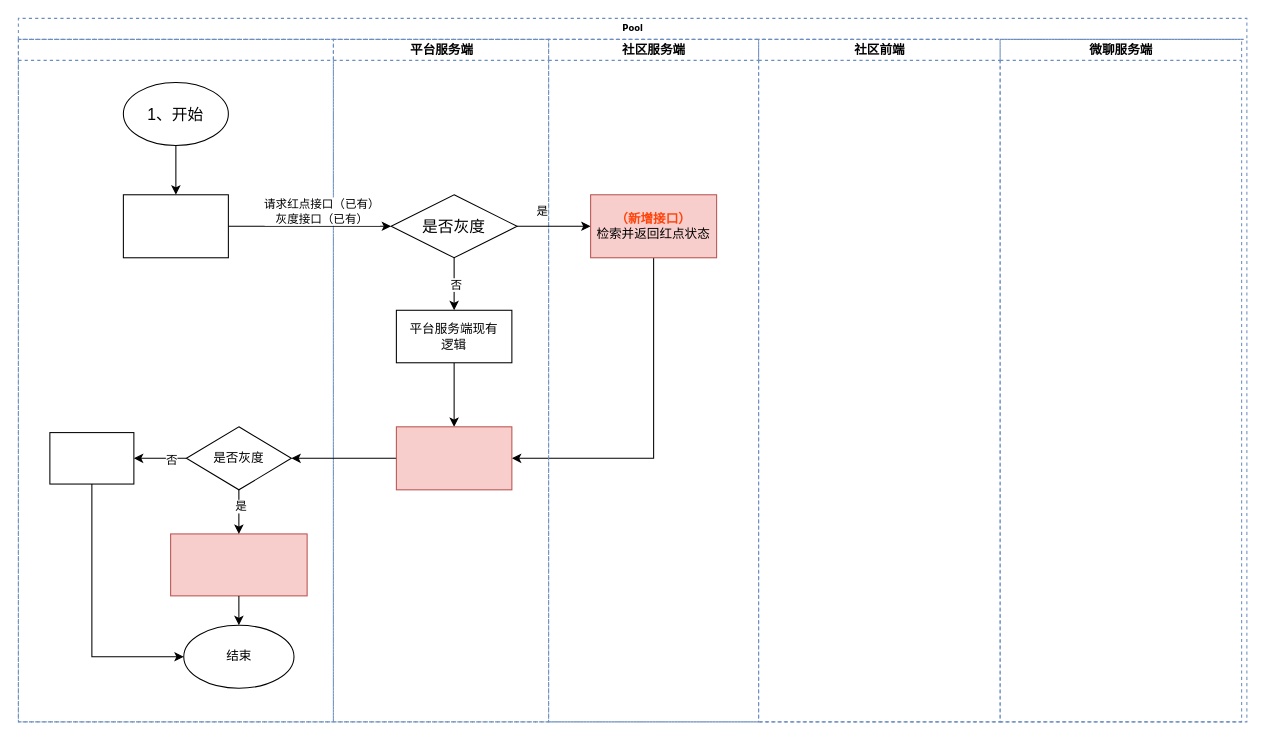
Some shapes in this 1265 by 740 pixel diagram are drawn without their labels. The shapes that lost their labels are listed below. From the top down, each one's box as (x1, y1, x2, y2) in pixels, then its label:
(122, 194, 228, 258): 启动app
(17, 38, 333, 722): 客户端
(49, 432, 134, 484): 现有逻辑
(395, 426, 512, 490): 返回客户端灰度和红点状态
(170, 533, 307, 596): 读取服务端下发红点+微聊未读消息数
